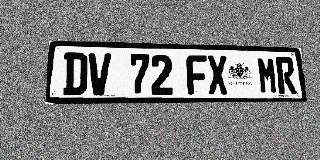2: (151, 54, 173, 94)
7: (128, 54, 150, 95)
D: (63, 52, 88, 95)
F: (186, 55, 208, 94)
M: (257, 57, 278, 94)
R: (275, 57, 297, 94)
V: (87, 53, 111, 95)
X: (207, 55, 228, 94)
